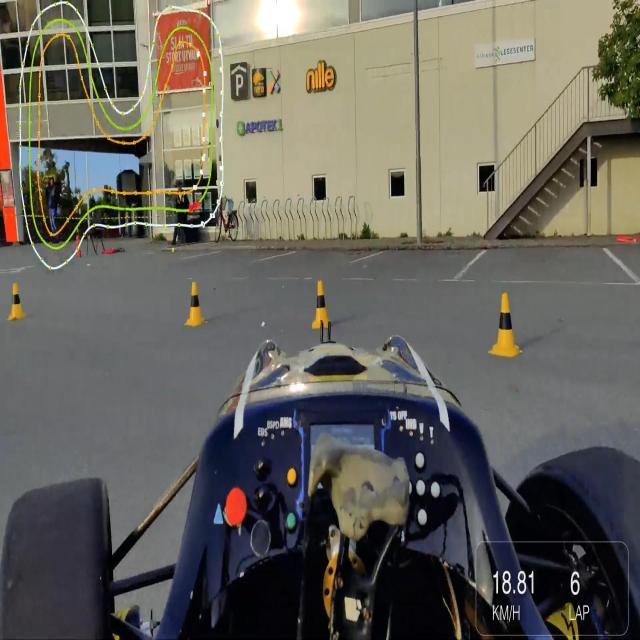yellow_cone: (489, 292, 523, 356), (312, 280, 330, 330), (186, 281, 204, 328), (9, 280, 26, 320)
